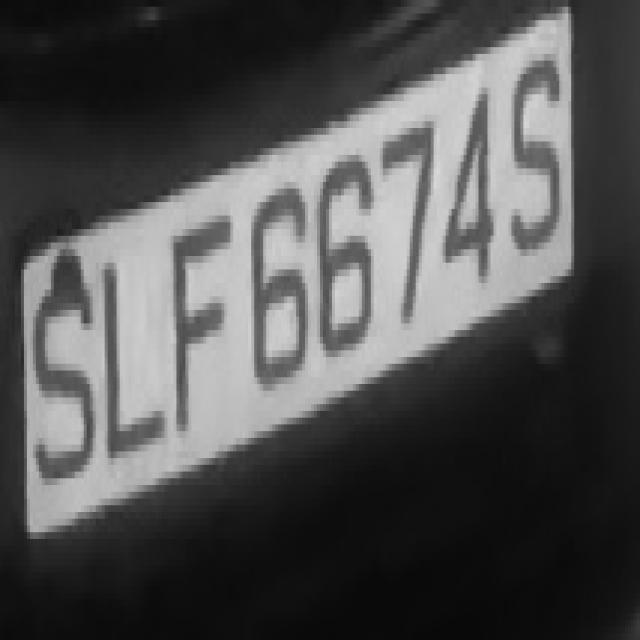4: (434, 47, 499, 303)
6: (308, 108, 377, 384), (242, 142, 311, 404)
7: (364, 88, 440, 350)
F: (168, 182, 234, 438)
L: (96, 222, 164, 478)
S: (27, 222, 93, 532), (496, 33, 568, 290)
